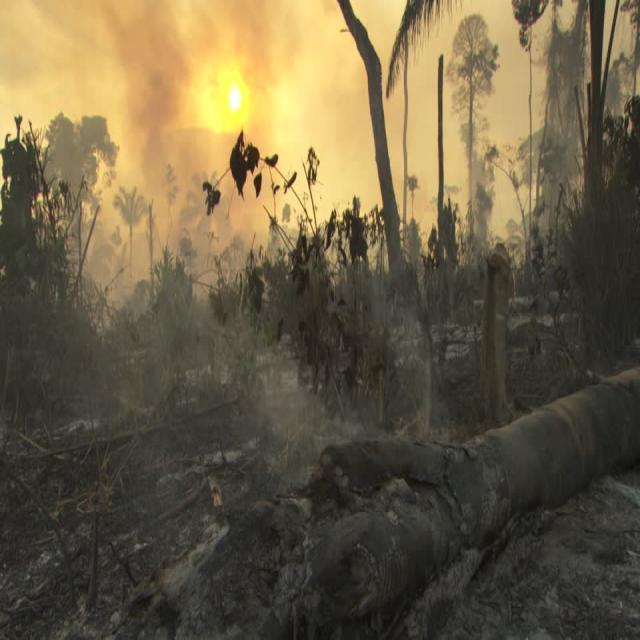Smoke: (1, 7, 581, 486)
